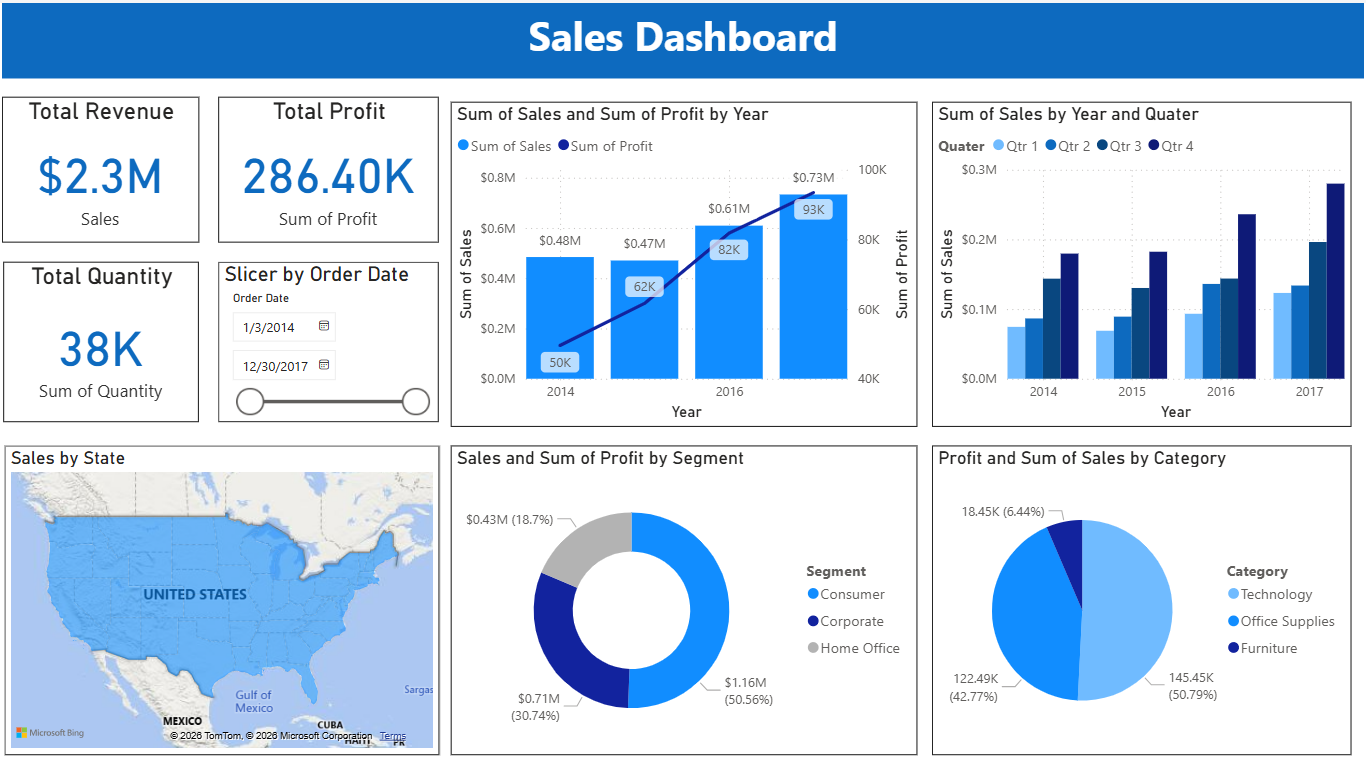

Layout of this report page (visuals, bound fields, positions):
{"tool":"powerbi","page":{"name":"Overall Sales","canvas":[1280,720],"ordinal":0},"visuals":[{"type":"textbox","box":[9.6,0,1270.7,70],"z":0},{"type":"card","title":"Total Revenue","fields":{"Values":["Sum(Sample - Superstore.Sales)"]},"box":[9.6,87.8,183.9,135.8],"z":1000},{"type":"card","title":"Total Quantity","fields":{"Values":["Sum(Sample - Superstore.Quantity)"]},"box":[11,241.5,182.5,149.6],"z":2000},{"type":"card","title":"Total Profit","fields":{"Values":["Sum(Sample - Superstore.Profit)"]},"box":[211.3,87.8,205.8,135.8],"z":3000},{"type":"slicer","title":"Slicer by Order Date","fields":{"Values":["Sample - Superstore.Order Date"]},"box":[211.3,241.5,205.8,149.6],"z":4000},{"type":"lineClusteredColumnComboChart","fields":{"Y2":["Sum(Sample - Superstore.Profit)"],"Category":["Sample - Superstore.Order Date.Variation.Date Hierarchy.Year"],"Y":["Sum(Sample - Superstore.Sales)"]},"box":[428.1,91.9,435,303.3],"z":5000},{"type":"clusteredColumnChart","fields":{"Series":["Sample - Superstore.Quater"],"Category":["Sample - Superstore.Order Date.Variation.Date Hierarchy.Year"],"Y":["Sum(Sample - Superstore.Sales)"]},"box":[876.8,91.9,391.1,303.3],"z":6000},{"type":"donutChart","title":"Sales and Sum of Profit by Segment","fields":{"Category":["Sample - Superstore.Segment"],"Y":["Sum(Sample - Superstore.Sales)"]},"box":[428,413,435,289],"z":8000},{"type":"pieChart","title":"Profit and Sum of Sales by Category","fields":{"Category":["Sample - Superstore.Category"],"Y":["Sum(Sample - Superstore.Profit)"]},"box":[877,413,391,289],"z":9000},{"type":"filledMap","fields":{"Category":["Sample - Superstore.State"]},"box":[14.7,404.8,402.3,297.1],"z":9001}]}

Visuals, with their boxes in screenshot pixels (x1, y1, x2, y2), scaled from the page's 1280x720 canvas onto the 1366x762 screenshot:
textbox: region(10, 0, 1365, 74)
"Total Revenue" card: region(10, 93, 207, 237)
"Total Quantity" card: region(12, 256, 207, 414)
"Total Profit" card: region(225, 93, 445, 237)
"Slicer by Order Date" slicer: region(225, 256, 445, 414)
lineClusteredColumnComboChart - Sum(Sample - Superstore.Profit) x Sample - Superstore.Order Date.Variation.Date Hierarchy.Year: region(457, 97, 921, 418)
clusteredColumnChart - Sample - Superstore.Quater x Sample - Superstore.Order Date.Variation.Date Hierarchy.Year: region(936, 97, 1353, 418)
"Sales and Sum of Profit by Segment" donutChart: region(457, 437, 921, 743)
"Profit and Sum of Sales by Category" pieChart: region(936, 437, 1353, 743)
filledMap - Sample - Superstore.State: region(16, 428, 445, 743)
